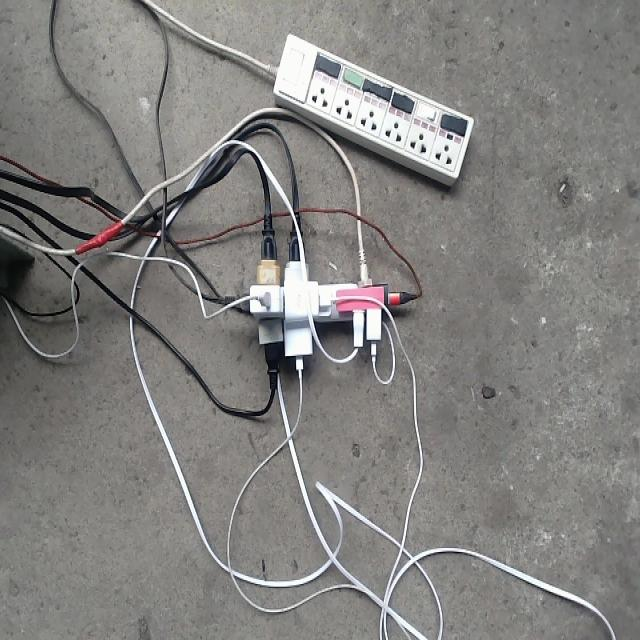-: (214, 176, 443, 424)
